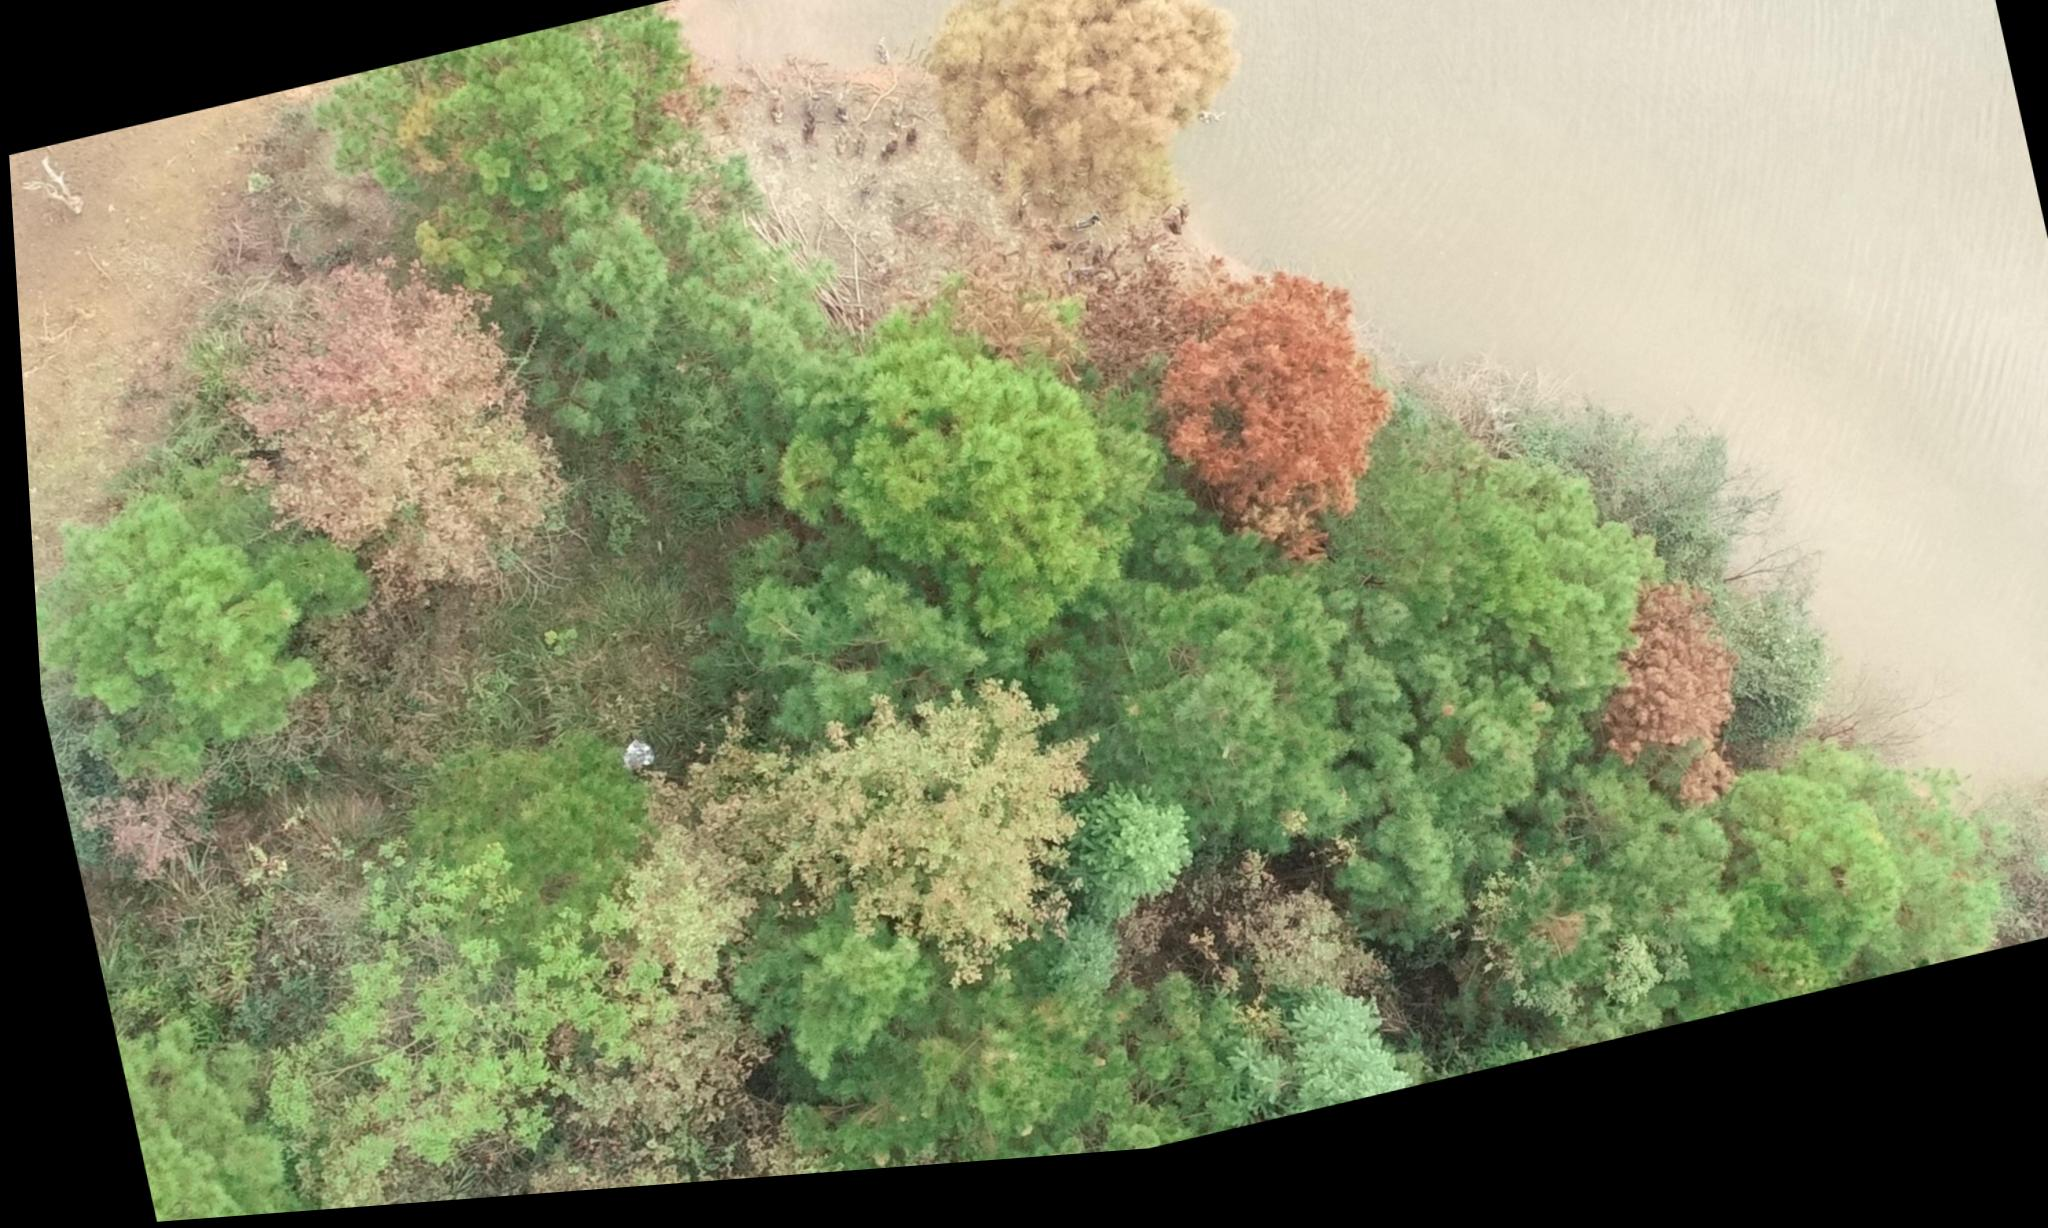heavy: (889, 0, 1267, 284), (1118, 270, 1412, 608), (1564, 586, 1756, 854), (943, 265, 1101, 412)
light: (365, 56, 598, 306)
